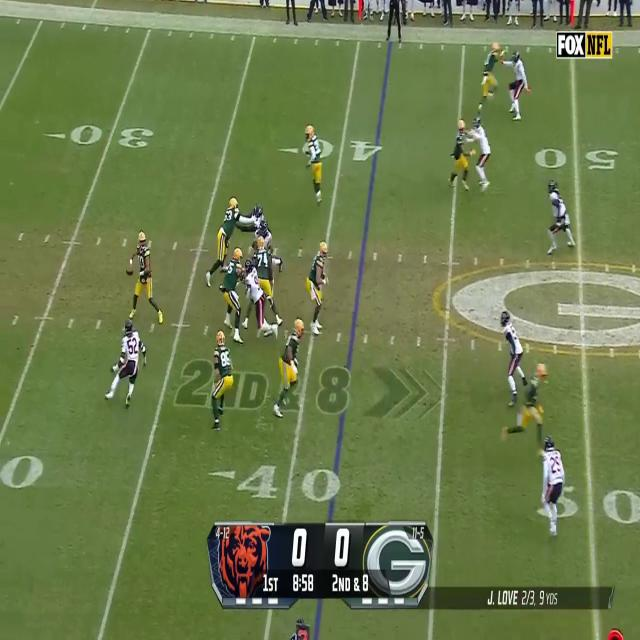Player: (516, 364, 548, 458), (499, 312, 527, 408), (278, 318, 304, 417), (112, 318, 140, 406), (209, 326, 232, 432), (541, 436, 565, 537), (305, 237, 327, 337), (222, 247, 245, 341), (546, 176, 572, 256), (132, 231, 153, 324), (244, 258, 266, 339), (449, 118, 470, 192), (214, 197, 242, 249), (478, 43, 500, 109), (304, 123, 322, 201), (472, 115, 490, 192), (508, 50, 526, 124), (256, 233, 274, 290)
